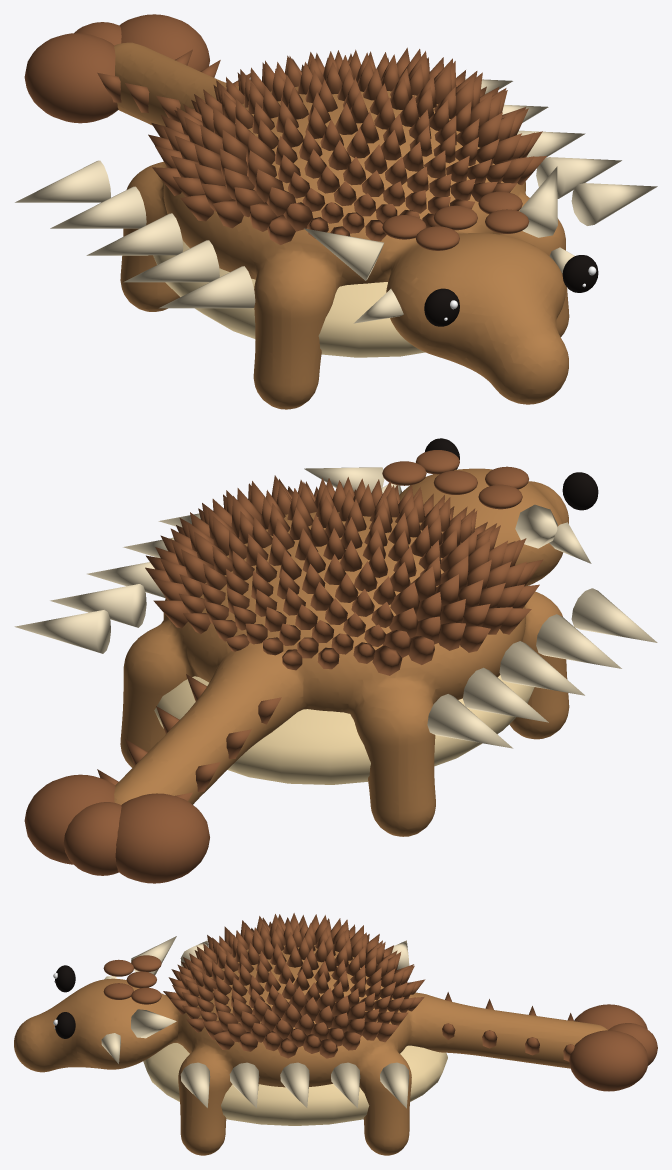
The model's file is anquilossauro.fbx.
3 renders of one model, top to bottom at view 1: azimuth 30°, elevation 25°; view 2: azimuth 150°, elevation 25°; view 3: azimuth 270°, elevation 25°, orthographic. The views are drawn at different scales.
Parts seen in each view (by area): view 1: anq_corpo, Sphere.001, Sphere, Sphere.002, Cone.195, Cone.199, Cone.197, Cone.201, Cone.203, Cone.196, Cone.198, Cone.205 (+14 smaller); view 2: anq_corpo, Sphere, Sphere.001, Sphere.002, Sphere.003, Cone.204, Cone.201, Cone.195, Cone.197, Cone.199, Cone.203, Cone.202 (+11 smaller); view 3: anq_corpo, Sphere, Sphere.002, Sphere.001, Cone.202, Cone.204, Cone.198, Cone.196, Cone.200, Cone.207, Sphere.003, Sphere.012 (+8 smaller).
Part boxes in pixels (x1,y1,x2,y2): anq_corpo: (114, 42, 569, 409); Sphere.001: (24, 33, 118, 123); Sphere: (153, 240, 424, 357); Sphere.002: (119, 14, 209, 71); Cone.195: (159, 266, 255, 308); Cone.199: (86, 213, 183, 255); Cone.197: (123, 240, 219, 282); Cone.201: (50, 186, 146, 228); Cone.203: (15, 160, 110, 202); Cone.196: (571, 183, 657, 225); Cone.198: (536, 157, 621, 198); Cone.205: (304, 228, 383, 280); anq_corpo: (114, 468, 569, 836); Sphere: (154, 675, 534, 784); Sphere.001: (115, 793, 209, 883); Sphere.002: (24, 774, 115, 864); Sphere.003: (63, 802, 121, 875); Cone.204: (14, 610, 110, 653); Cone.201: (463, 667, 548, 722); Cone.195: (571, 588, 657, 642); Cone.197: (536, 614, 621, 668); Cone.199: (499, 641, 584, 695); Cone.203: (427, 694, 513, 748); Cone.202: (50, 584, 146, 627); anq_corpo: (14, 944, 607, 1155); Sphere: (143, 1043, 447, 1125); Sphere.002: (569, 1030, 648, 1091); Sphere.001: (574, 1004, 647, 1029); Cone.202: (331, 1062, 360, 1108); Cone.204: (380, 1062, 409, 1108); Cone.198: (229, 1062, 259, 1107); Cone.196: (180, 1062, 210, 1107); Cone.200: (280, 1062, 309, 1107); Cone.207: (131, 1009, 176, 1038); Sphere.003: (608, 1023, 657, 1065); Sphere.012: (55, 1012, 75, 1038).
Bounding box in the file's own units: 2.6 × 1.23 × 4.21.
